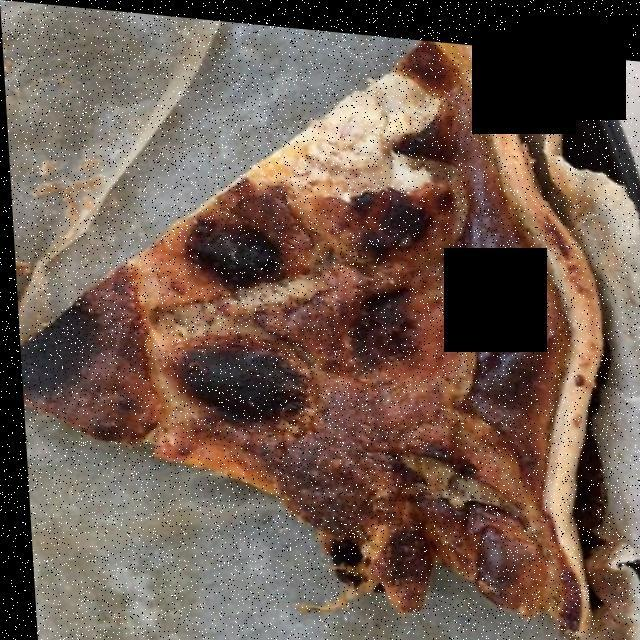pie: (36, 65, 594, 611)
